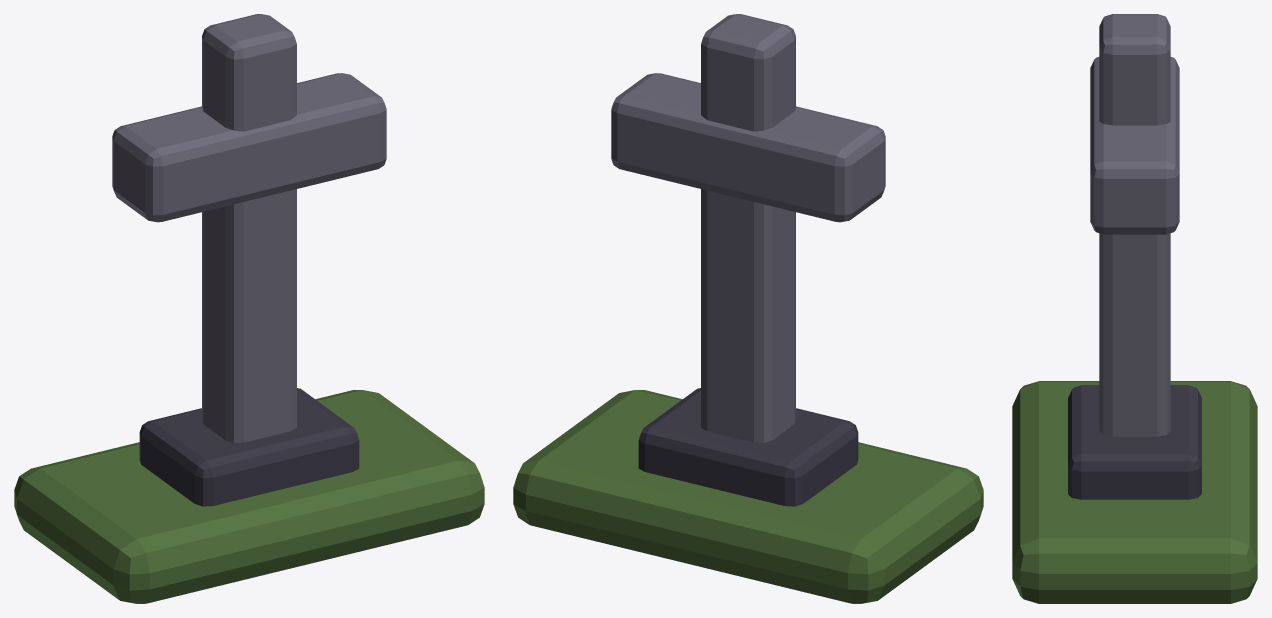
Rendered from gravestone-1.glb.
3 views of the same model, side by side, from view 1: azimuth 30°, elevation 25°; view 2: azimuth 150°, elevation 25°; view 3: azimuth 270°, elevation 25° (orthographic).
Visible parts, largest first — view 1: gravestone; view 2: gravestone; view 3: gravestone.
Boxes of the visible parts, bbox=[...] form: gravestone: bbox=[14, 14, 484, 603]; gravestone: bbox=[513, 14, 983, 603]; gravestone: bbox=[1012, 14, 1257, 603].
Size of the model in its own units: 0.95 by 1.24 by 0.55.
